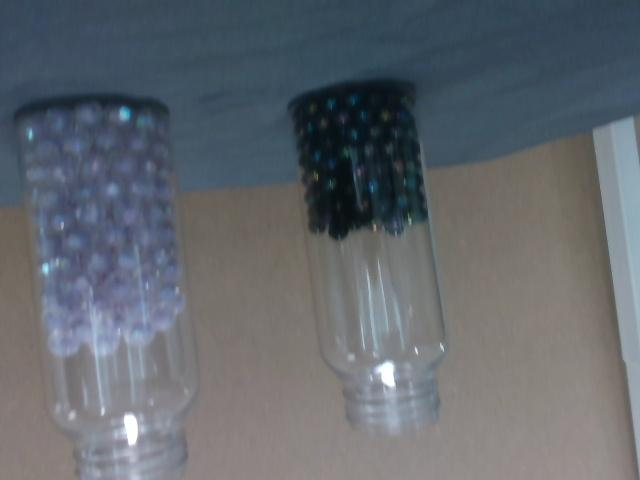black_bottle: (286, 79, 430, 243)
purple_bottle: (9, 100, 186, 359)
